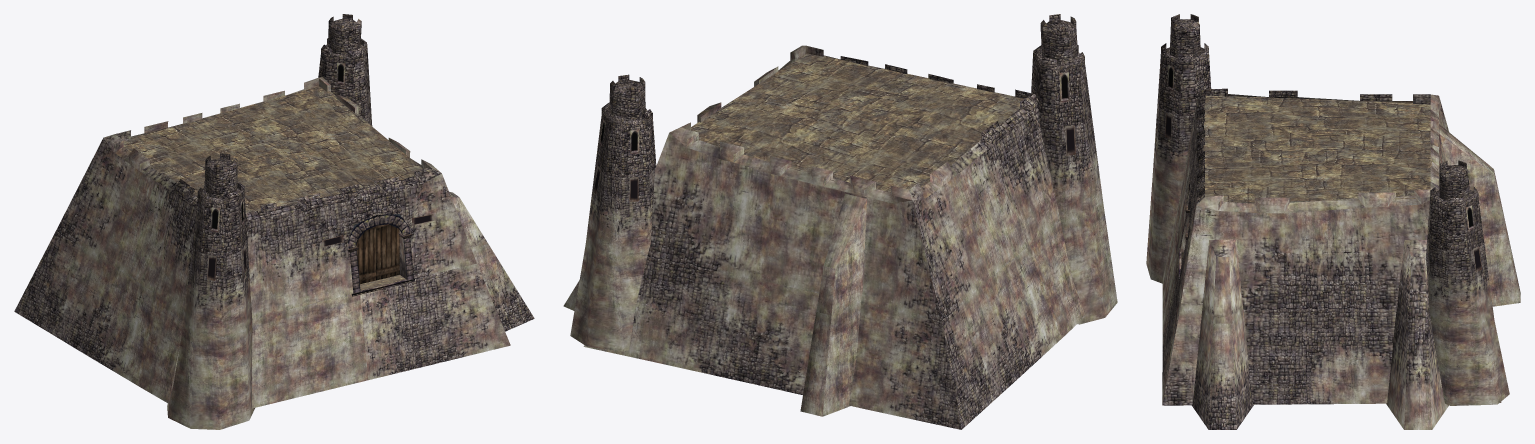
The model's file is fort_small_cave.fbx.
3 renders of one model, left to right at view 1: azimuth 30°, elevation 25°; view 2: azimuth 150°, elevation 25°; view 3: azimuth 270°, elevation 25°, orthographic. The views are drawn at different scales.
Visible parts, largest first — view 1: exterior_walls3, pPlane7, large_tower7, exterior_walls1, large_tower7.001, butress2, door_right, door_left, khsmallfort:polySurface468; view 2: exterior_walls3, pPlane7, large_tower7.001, large_tower7, butress1, exterior_walls1; view 3: exterior_walls3, pPlane7, large_tower7.001, large_tower7, butress2, butress3, exterior_walls1, butress1.
Boxes of the visible parts, x1,y1,x2,y2 form: exterior_walls3: (14, 138, 510, 408); pPlane7: (123, 86, 422, 213); large_tower7: (167, 153, 254, 429); exterior_walls1: (103, 76, 441, 220); large_tower7.001: (318, 14, 372, 197); butress2: (449, 191, 534, 331); door_right: (376, 224, 399, 280); door_left: (356, 226, 376, 284); khsmallfort:polySurface468: (348, 214, 409, 248); exterior_walls3: (583, 59, 1085, 429); pPlane7: (691, 53, 1023, 192); large_tower7.001: (570, 74, 656, 351); large_tower7: (1031, 14, 1117, 324); butress1: (800, 193, 866, 416); exterior_walls1: (669, 45, 1038, 203); exterior_walls3: (1162, 96, 1501, 405); pPlane7: (1203, 95, 1433, 202); large_tower7.001: (1426, 160, 1509, 405); large_tower7: (1146, 14, 1211, 283); butress2: (1192, 239, 1253, 429); butress3: (1386, 240, 1448, 429); exterior_walls1: (1196, 88, 1438, 213); butress1: (1439, 124, 1520, 306).
Size of the model in its own units: 16080 by 10062 by 13396.
Materials: 5 (5 with a texture image).
